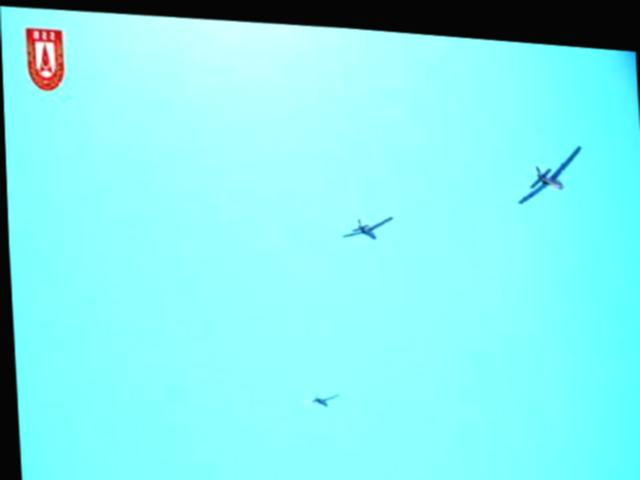uav: (512, 128, 586, 201), (337, 205, 393, 239), (297, 383, 339, 405)
